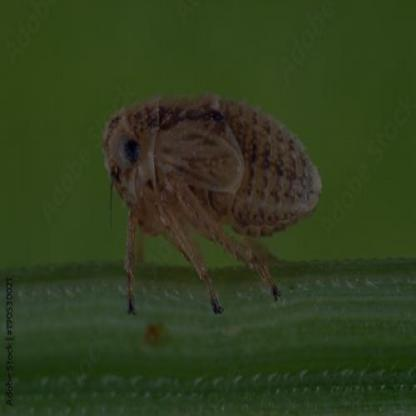brown-planthopper: (104, 94, 324, 316)
